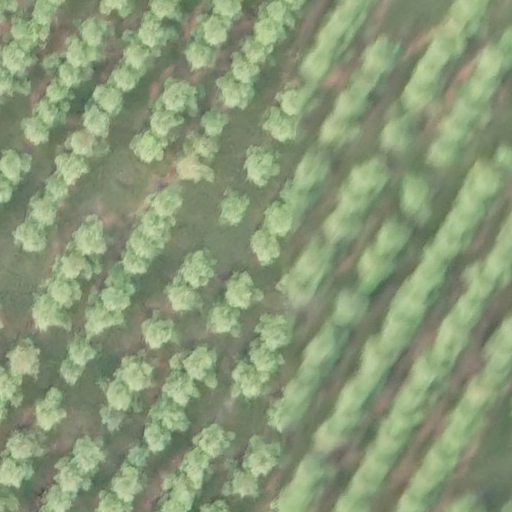eucalipto: (243, 144, 282, 190), (25, 296, 70, 335), (400, 176, 435, 226), (222, 270, 264, 311), (241, 437, 282, 478), (229, 359, 270, 399), (54, 248, 100, 283), (5, 426, 48, 462), (161, 365, 199, 405), (179, 247, 216, 288), (158, 81, 200, 117), (53, 456, 95, 492), (337, 184, 379, 220), (362, 36, 399, 76), (32, 388, 67, 430), (216, 72, 253, 111), (7, 338, 41, 380), (213, 188, 251, 225), (103, 379, 141, 416), (255, 311, 294, 347), (244, 230, 282, 266), (292, 154, 331, 189), (175, 152, 215, 186), (183, 345, 217, 385), (194, 423, 234, 457), (351, 160, 392, 193), (10, 17, 52, 49), (139, 15, 182, 46), (71, 220, 108, 256), (179, 449, 216, 485), (151, 399, 189, 434), (451, 1, 489, 36), (247, 339, 285, 374), (430, 25, 469, 59), (467, 160, 498, 202), (44, 273, 80, 309), (264, 106, 299, 143), (122, 358, 159, 393), (226, 49, 264, 83), (222, 469, 260, 503), (204, 305, 244, 337), (319, 118, 363, 147), (1, 452, 36, 488), (263, 201, 298, 237), (156, 478, 193, 512), (334, 291, 371, 325), (128, 228, 167, 260), (317, 19, 356, 51), (1, 145, 32, 185), (308, 234, 348, 265), (333, 92, 374, 122), (317, 317, 352, 352), (470, 261, 505, 296), (452, 190, 488, 224), (297, 50, 334, 83), (322, 213, 364, 242), (142, 313, 176, 348), (425, 137, 459, 172), (436, 222, 471, 256), (402, 78, 440, 109), (361, 256, 395, 290), (1, 41, 34, 76), (149, 110, 184, 143), (149, 184, 184, 217), (377, 119, 412, 152), (111, 465, 147, 497), (165, 283, 202, 314), (91, 83, 124, 117), (437, 317, 470, 351), (183, 39, 218, 71), (438, 117, 475, 147), (138, 212, 176, 241), (294, 358, 333, 386), (55, 151, 87, 185), (26, 197, 60, 229), (73, 436, 105, 470), (376, 222, 410, 254), (363, 332, 397, 364), (293, 459, 328, 490), (11, 225, 50, 252), (239, 33, 274, 63), (408, 366, 444, 395), (129, 132, 166, 160), (262, 1, 294, 33), (142, 422, 174, 454), (269, 402, 301, 434), (18, 112, 51, 143), (281, 376, 315, 406), (75, 15, 110, 44), (375, 428, 406, 460), (63, 37, 96, 67), (275, 85, 308, 115), (199, 15, 229, 47), (66, 336, 98, 366), (414, 257, 446, 287), (476, 48, 505, 81), (39, 484, 73, 512), (35, 97, 66, 127), (123, 245, 154, 275), (83, 106, 112, 138), (144, 1, 186, 23), (333, 1, 368, 27), (46, 77, 75, 108), (110, 266, 142, 294), (101, 284, 133, 312), (187, 133, 220, 160), (97, 403, 125, 434), (56, 61, 92, 85), (124, 40, 156, 67), (108, 65, 140, 92), (66, 130, 98, 157), (349, 75, 383, 100), (466, 78, 495, 107), (44, 173, 71, 204), (200, 107, 230, 134), (250, 18, 278, 46), (58, 357, 85, 384), (206, 1, 245, 19), (125, 443, 151, 468), (31, 1, 60, 23), (95, 1, 134, 16), (493, 141, 512, 170), (199, 498, 231, 512)
